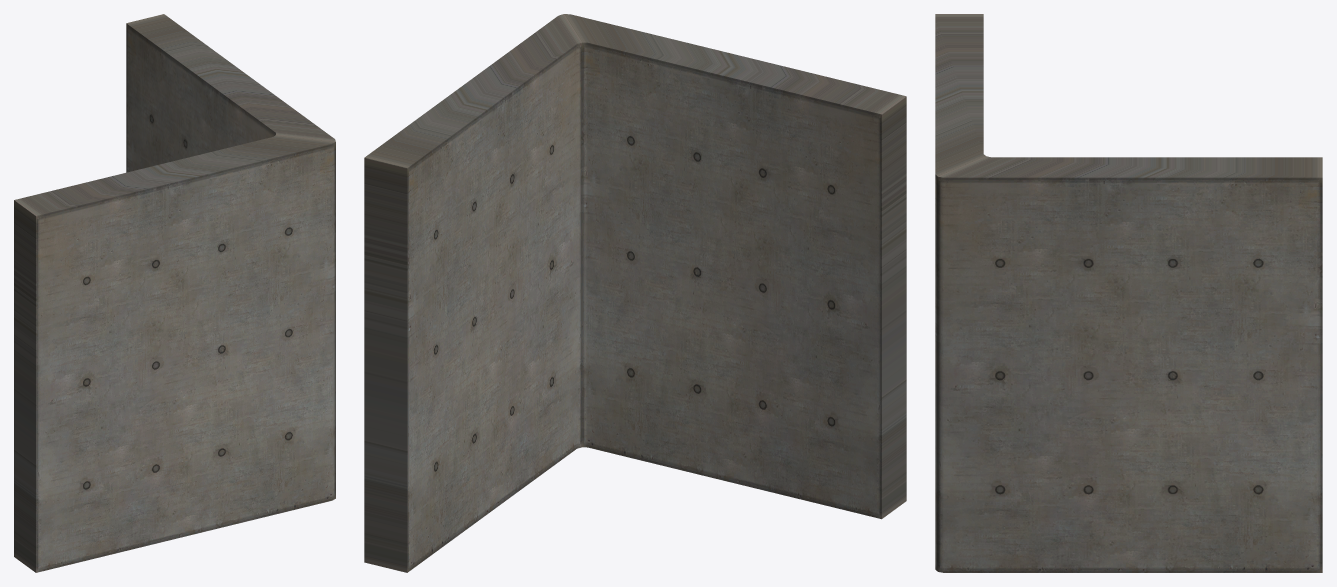
The model's file is concreteWall01_cornerPieceIn.dae.
3 views of the same model, side by side, from view 1: azimuth 30°, elevation 25°; view 2: azimuth 150°, elevation 25°; view 3: azimuth 270°, elevation 25° (orthographic). The views are drawn at different scales.
Visible parts, largest first — view 1: polySurface6; view 2: polySurface6; view 3: polySurface6.
Boxes of the visible parts, left/top/right/bottom form: polySurface6: left=14, top=14, right=335, bottom=572; polySurface6: left=364, top=14, right=906, bottom=572; polySurface6: left=935, top=14, right=1322, bottom=572.
Size of the model in its own units: 4 by 4.5 by 4.
1 material, 1 textured.
